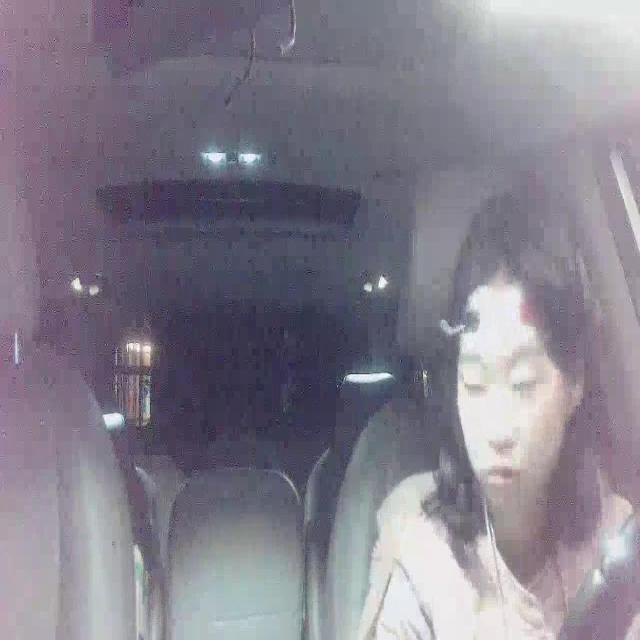Inattentive: (441, 180, 610, 508)
